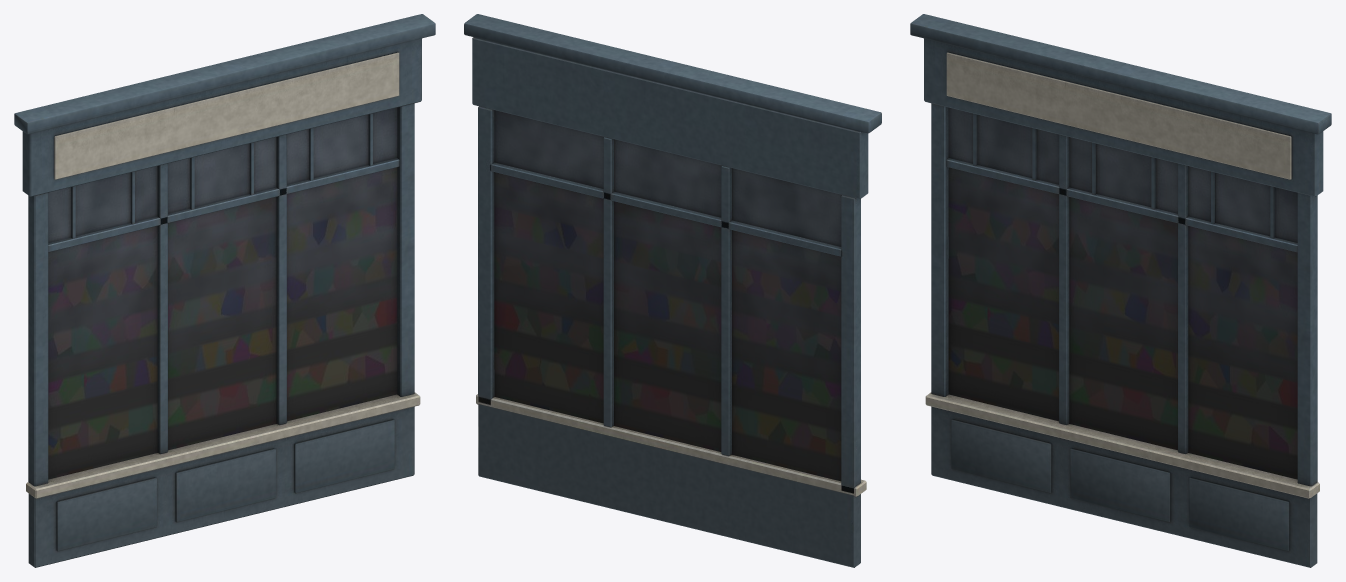
The model's file is shop_town_30_blue.glb.
The picture shows the model from 3 angles, left to right: view 1: azimuth 30°, elevation 25°; view 2: azimuth 150°, elevation 25°; view 3: azimuth 330°, elevation 25°; orthographic projection.
Visible parts, largest first — view 1: shop_town_30_blue; view 2: shop_town_30_blue; view 3: shop_town_30_blue.
Boxes of the visible parts, <box> form: shop_town_30_blue: <box>14,14,435,567</box>; shop_town_30_blue: <box>464,14,881,567</box>; shop_town_30_blue: <box>910,14,1331,567</box>.
Size of the model in its own units: 3.44 by 3.65 by 0.2.
1 material, 1 textured.
